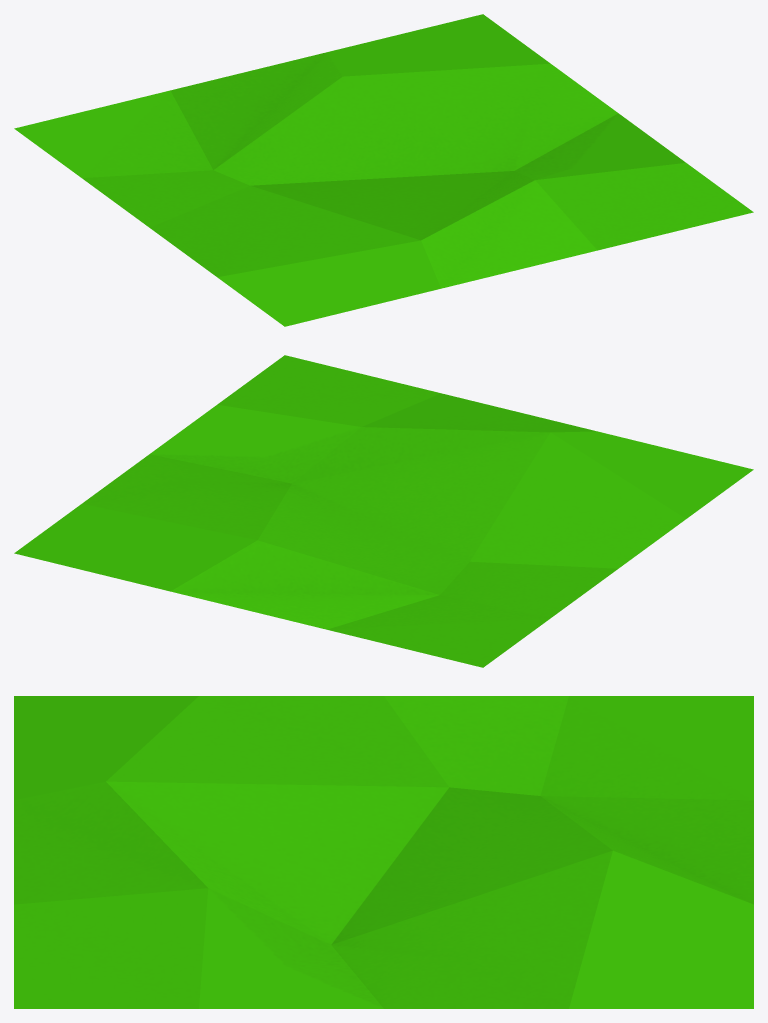
File: GRASS.glb
3 renders of one model, top to bottom at view 1: azimuth 30°, elevation 25°; view 2: azimuth 150°, elevation 25°; view 3: azimuth 270°, elevation 25°, orthographic. The views are drawn at different scales.
Visible parts, largest first — view 1: Plane; view 2: Plane; view 3: Plane.
Part boxes in pixels (x1,y1,x2,y2): Plane: (14, 14, 753, 326); Plane: (14, 355, 753, 667); Plane: (14, 696, 753, 1008).
Bounding box in the file's own units: 2 × 0.1473 × 2.
Materials: 1 (1 with a texture image).
